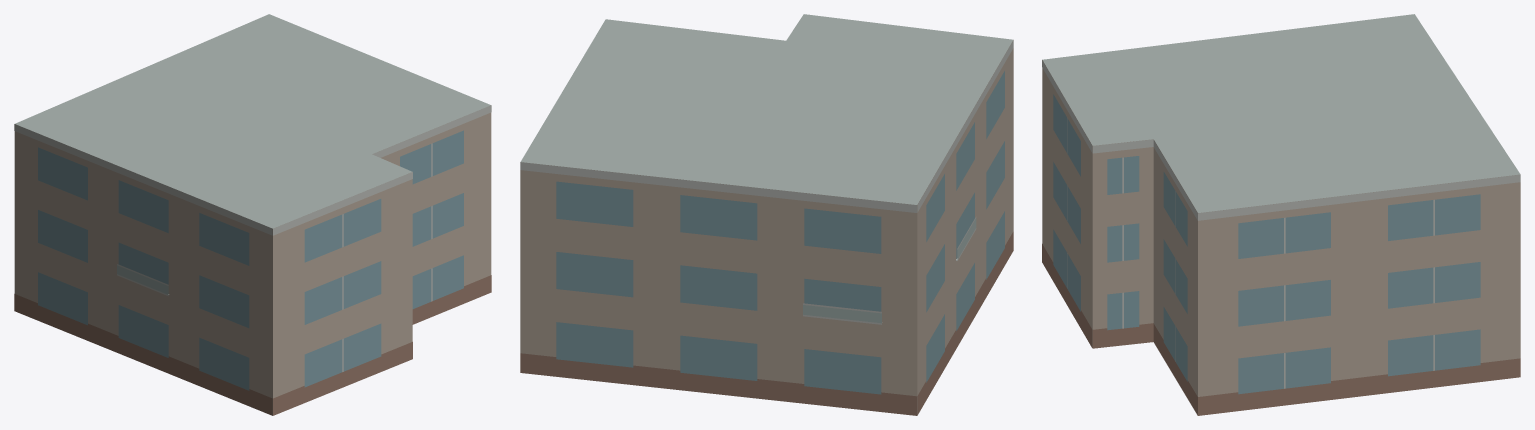
File: survey-upis-32583828.glb
3 views of the same model, side by side, from view 1: azimuth 30°, elevation 25°; view 2: azimuth 150°, elevation 25°; view 3: azimuth 270°, elevation 25° (orthographic). The views are drawn at different scales.
Parts seen in each view (by area): view 1: survey-upis-32583828.tmp; view 2: survey-upis-32583828.tmp; view 3: survey-upis-32583828.tmp.
Boxes of the visible parts, left/top/right/bottom form: survey-upis-32583828.tmp: left=14, top=14, right=491, bottom=415; survey-upis-32583828.tmp: left=520, top=14, right=1013, bottom=415; survey-upis-32583828.tmp: left=1042, top=14, right=1520, bottom=415.
Bounding box in the file's own units: 13.49 × 6.4 × 13.7.
